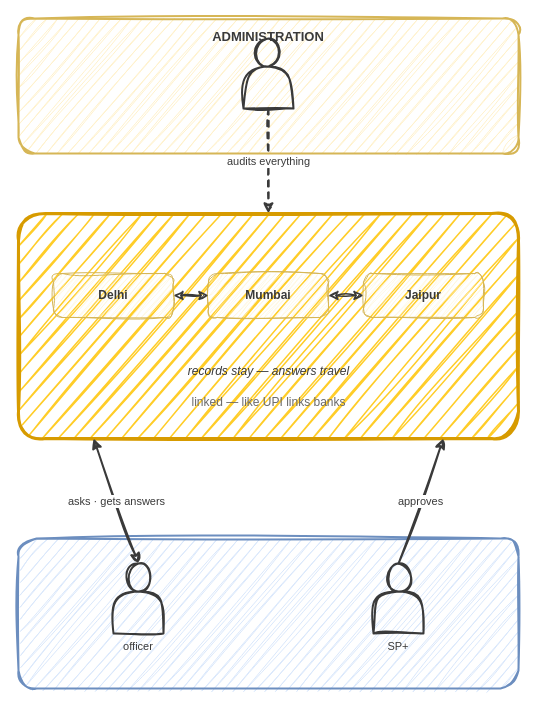
This 537x706 diagram has some shape labels left out. The box of each missing label's shape, as (x1, y1, x2, y2) in pixels:
INVESTIGATORS: (17, 537, 519, 689)
NCRB admin: (242, 37, 294, 109)
THE MESH: (16, 212, 520, 440)
